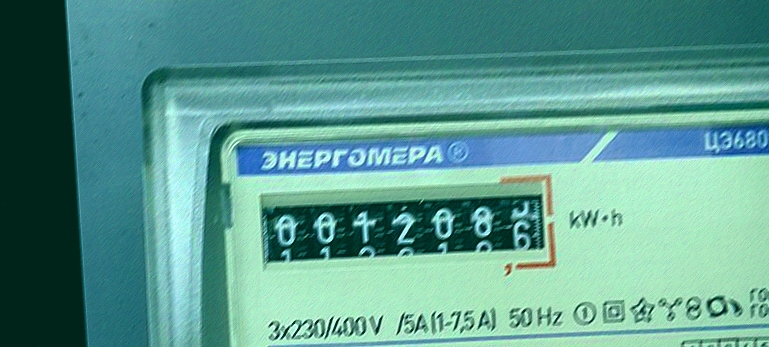0: (431, 201, 458, 238), (314, 205, 340, 243), (276, 207, 299, 245)
1: (355, 205, 375, 243)
2: (393, 207, 421, 243)
6: (510, 213, 535, 249)
8: (470, 200, 496, 237)
screen: (250, 161, 568, 298)
